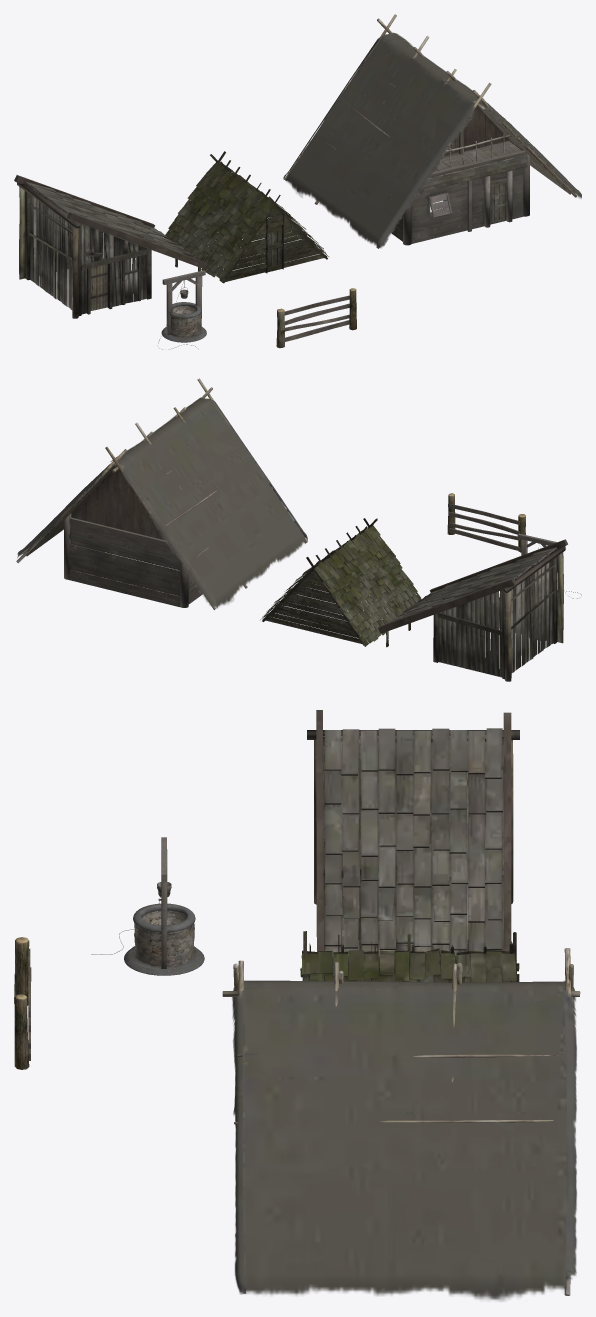
File: cabin_diorama.glb
3 views of the same model, one above another, from view 1: azimuth 30°, elevation 25°; view 2: azimuth 150°, elevation 25°; view 3: azimuth 270°, elevation 25° (orthographic). The views are drawn at different scales.
Parts seen in each view (by area): view 1: house 5, house 2, house 4, well, fence 1, door 2.001, door 5 a, door 4; view 2: house 5, house 2, house 4, fence 1; view 3: house 5, house 2, house 4, well, fence 1.
Part boxes in pixels (x1,y1,x2,y2): house 5: [283, 14, 581, 248]; house 2: [14, 175, 207, 318]; house 4: [164, 151, 328, 283]; well: [161, 270, 206, 342]; fence 1: [276, 288, 356, 348]; door 2.001: [90, 264, 107, 310]; door 5 a: [490, 178, 506, 224]; door 4: [267, 225, 282, 272]; house 5: [16, 378, 307, 609]; house 2: [378, 539, 567, 681]; house 4: [260, 518, 421, 646]; fence 1: [447, 493, 525, 552]; house 5: [222, 948, 580, 1301]; house 2: [307, 710, 519, 973]; house 4: [300, 931, 519, 982]; well: [124, 837, 204, 975]; fence 1: [14, 937, 31, 1069].
Size of the model in its own units: 24.35 by 7.42 by 13.63.
Materials: 7 (7 with a texture image).
